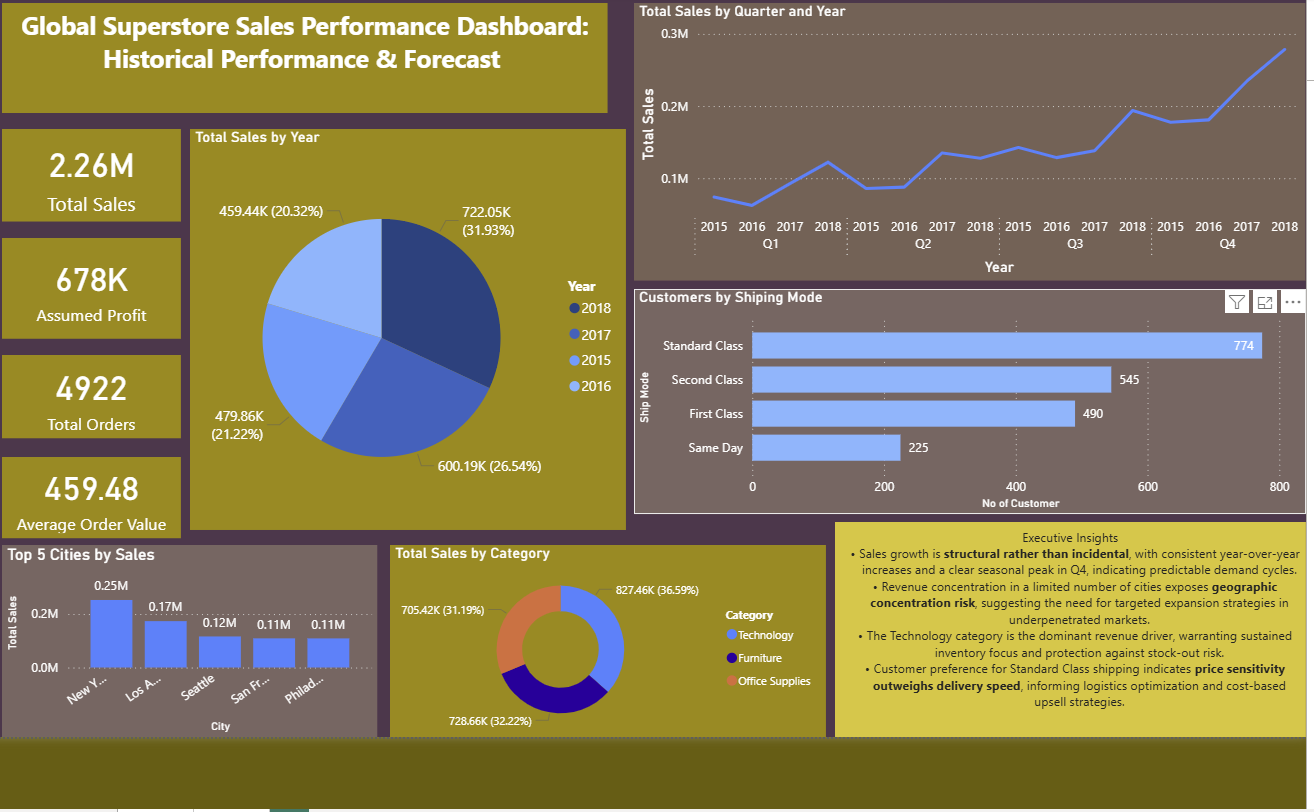

Layout of this report page (visuals, bound fields, positions):
{"tool":"powerbi","page":{"name":"Page 1","canvas":[1280,720],"ordinal":0},"visuals":[{"type":"card","fields":{"Values":["train.Total Sales"]},"box":[11.7,128.4,174.1,90.5],"z":0},{"type":"card","fields":{"Values":["train.AVO"]},"box":[11.7,447.4,174.1,78.8],"z":1000},{"type":"card","fields":{"Values":["train.Total Orders"]},"box":[11.7,348.2,174.1,80.7],"z":2000},{"type":"columnChart","title":"Top 5 Cities by Sales","fields":{"Y":["train.Total Sales"],"Category":["train.City"]},"box":[11.6,532.8,365.4,187.2],"z":3000},{"type":"donutChart","fields":{"Category":["train.Category"],"Y":["train.Total Sales"]},"box":[388.7,532.8,423.6,187.2],"z":4000},{"type":"clusteredBarChart","title":"Customers by Shiping Mode","fields":{"Category":["train.Ship Mode"],"Y":["Count(train.Customer ID)"]},"box":[626.9,283.9,652.8,219.4],"z":5000},{"type":"pieChart","fields":{"Category":["Date.Year"],"Y":["train.Total Sales"]},"box":[194.3,128.1,423.6,390.4],"z":6000},{"type":"lineChart","fields":{"Category":["Date.Quarter","Date.Year"],"Y":["train.Total Sales"]},"box":[626.9,6.3,652.8,269.6],"z":7000},{"type":"card","fields":{"Values":["train.Estimated Profit"]},"box":[11.7,234.4,174.1,98.2],"z":8000},{"type":"textbox","box":[11.7,5.8,589.4,107],"z":9000},{"type":"textbox","box":[822.1,510.4,457.6,209.6],"z":10000}]}

Visuals, with their boxes on the page's 1280x720 design canvas (x1, y1, x2, y2). These are canvas units, not pixel positions in the 1314x812 screenshot, which may show the page scaled, cropped or inside an application window:
card - train.Total Sales: 12, 128, 186, 219
card - train.AVO: 12, 447, 186, 526
card - train.Total Orders: 12, 348, 186, 429
"Top 5 Cities by Sales" columnChart: 12, 533, 377, 720
donutChart - train.Category x train.Total Sales: 389, 533, 812, 720
"Customers by Shiping Mode" clusteredBarChart: 627, 284, 1280, 503
pieChart - Date.Year x train.Total Sales: 194, 128, 618, 518
lineChart - Date.Quarter x Date.Year: 627, 6, 1280, 276
card - train.Estimated Profit: 12, 234, 186, 333
textbox: 12, 6, 601, 113
textbox: 822, 510, 1280, 720
